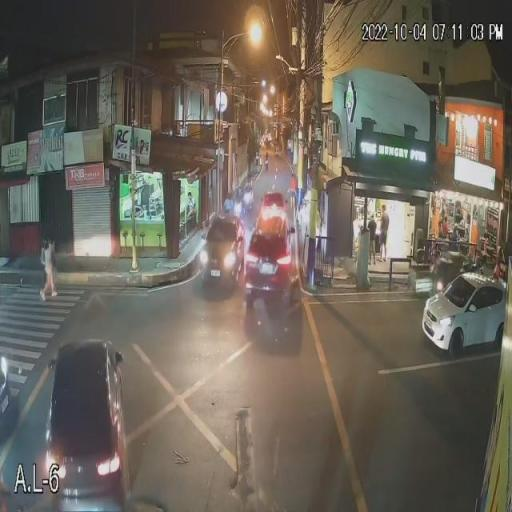motorcycle: (263, 158, 271, 173)
rider: (261, 156, 271, 170)
